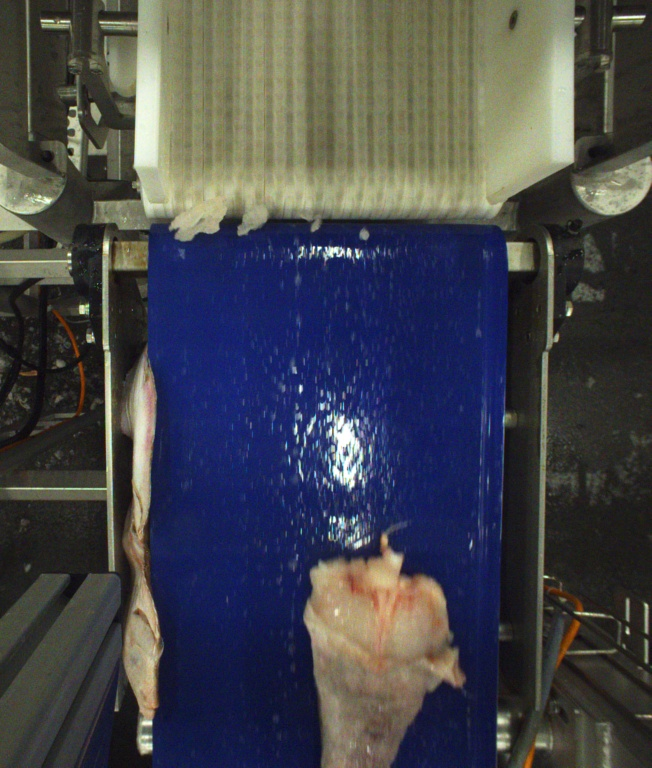ANF: (302, 557, 463, 768)
